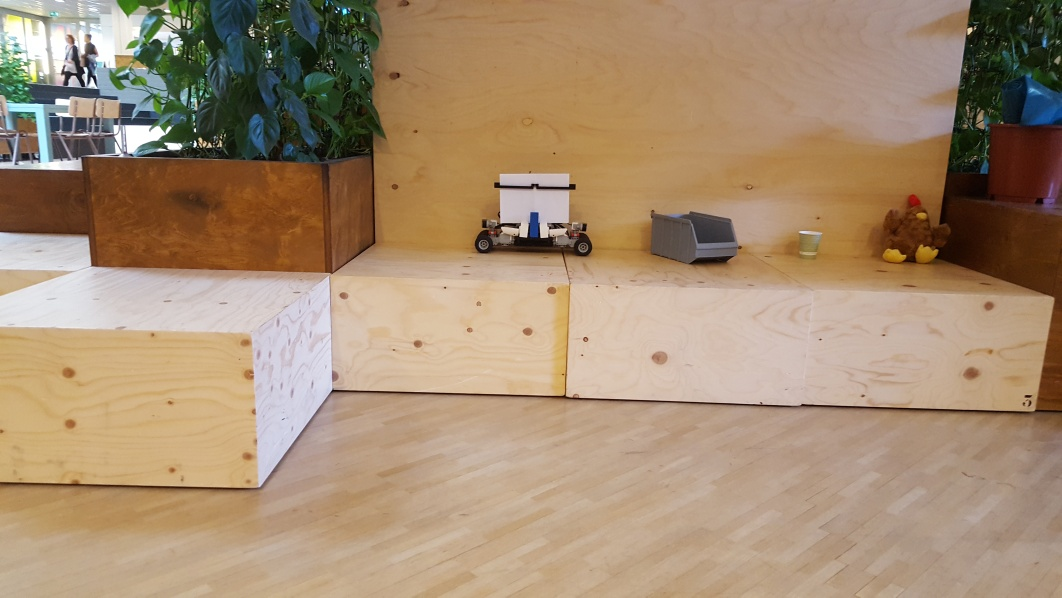car: (475, 173, 593, 256)
chicken: (882, 194, 955, 266)
cup: (794, 226, 822, 263)
tray: (648, 209, 743, 271)
